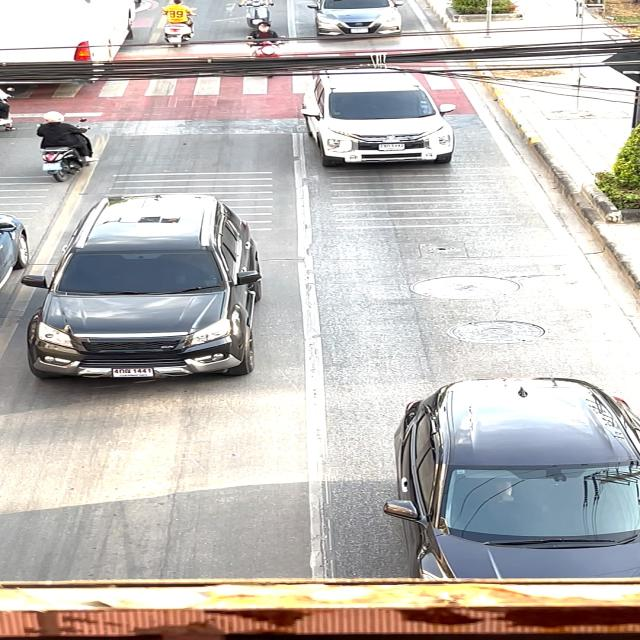car: (373, 368, 640, 584), (16, 187, 277, 381), (295, 68, 465, 170), (295, 0, 421, 38)
